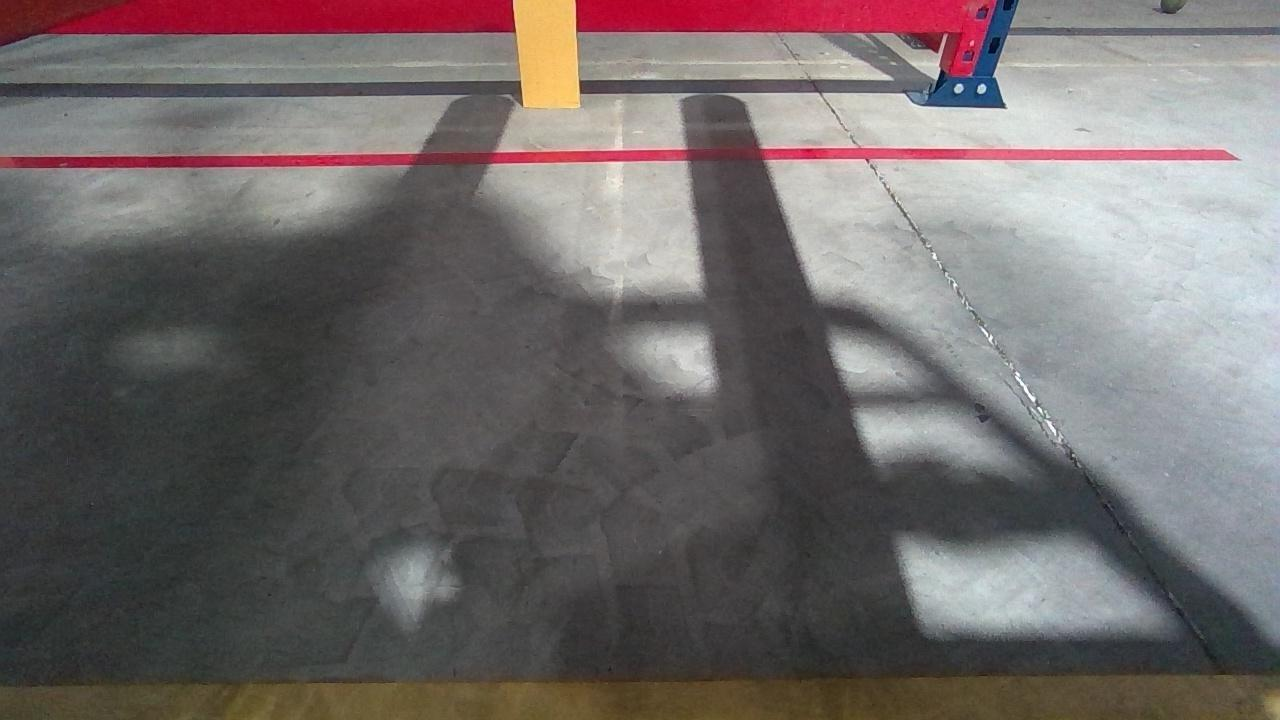red_line: (3, 148, 1229, 162)
yellow_line: (0, 685, 1280, 718)
